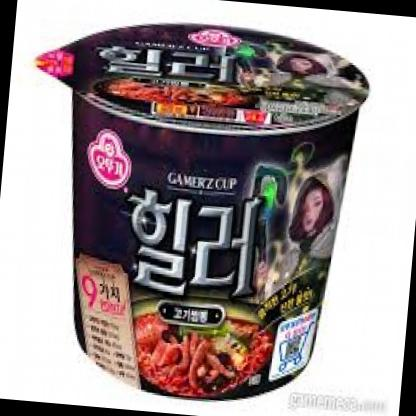Ramen: (34, 10, 372, 410)
